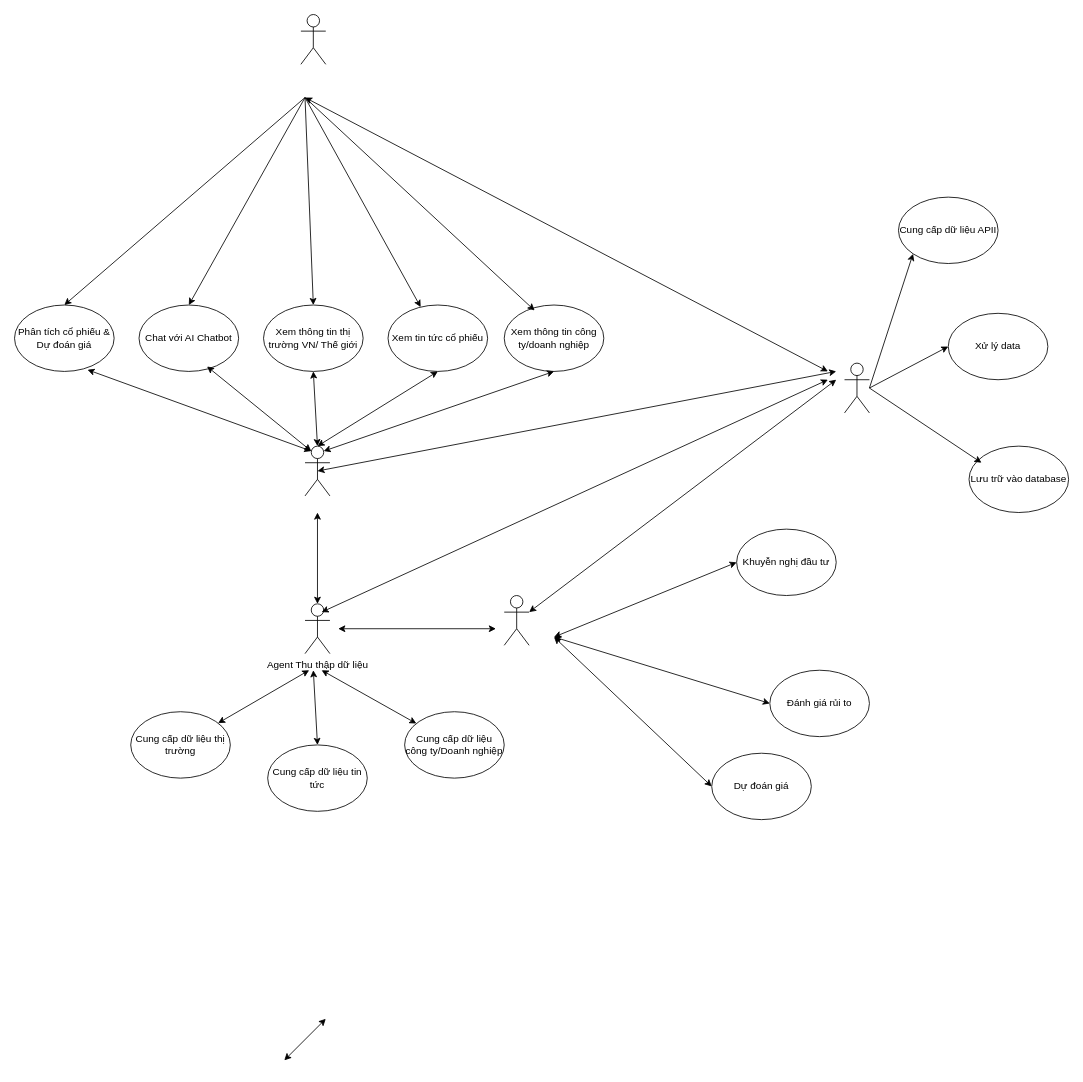
The diagram is 1083 pixels wide and 1082 high, and some of its shapes have lost their labels. Here are the shapes that lost their labels. From the top down, the box of each, then its label:
(300, 14, 326, 64): End users
(844, 362, 869, 413): Hệ thống lưu trữ
(304, 445, 330, 496): Agent Giao tiếp/hợp tác
(503, 595, 529, 645): Agent Phân tích dữ liệu & Dự đoán giá
